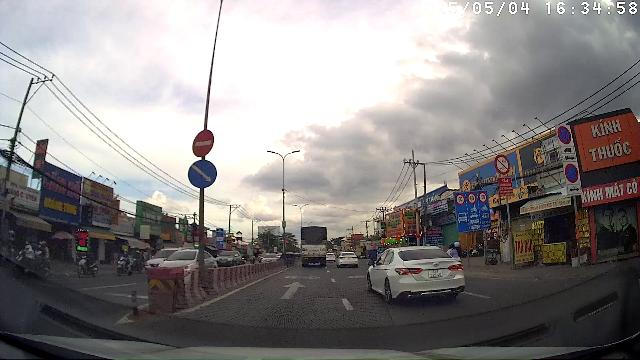102-cam-di-nguoc-chieu: (192, 130, 215, 157)
127-toc-do-toi-da-60: (467, 193, 477, 205), (455, 194, 465, 205), (479, 192, 488, 202)
130-cam-dung-va-do-xe: (557, 125, 572, 145)
131a-cam-do-xe: (564, 162, 580, 184)
302a-huong-phai-di-vong-chuong-ngai-vat-1: (188, 159, 218, 188)
